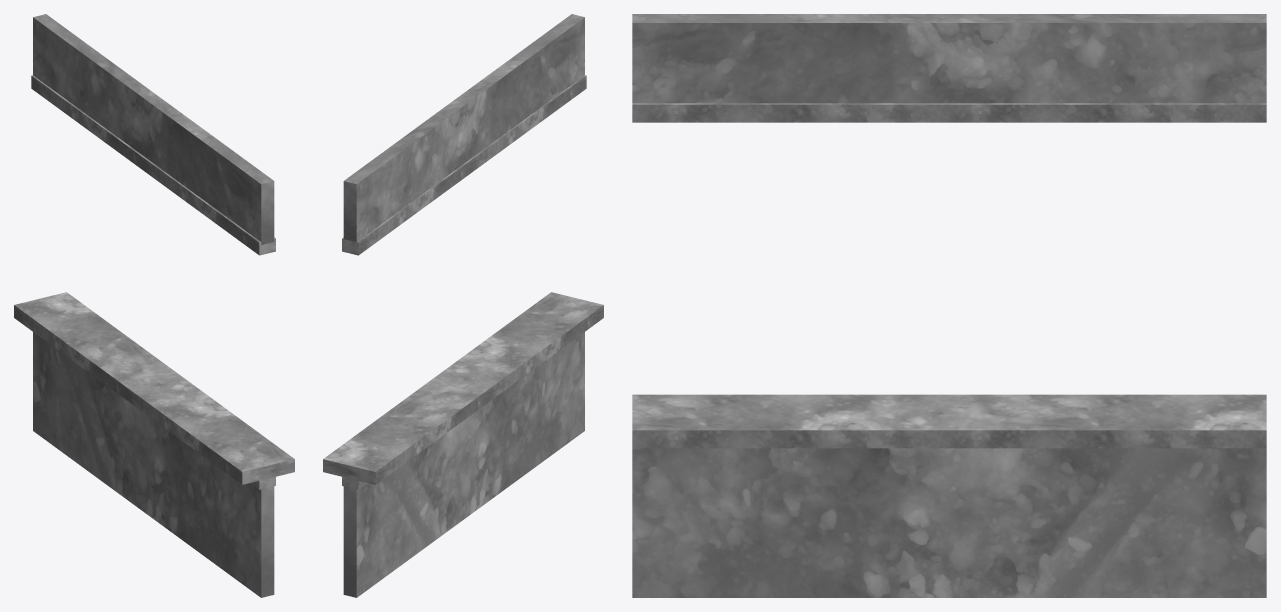
Rendered from SM_WallWindow_01j.fbx.
The picture shows the model from 3 angles, left to right: view 1: azimuth 30°, elevation 25°; view 2: azimuth 150°, elevation 25°; view 3: azimuth 270°, elevation 25°; orthographic projection. The views are drawn at different scales.
Visible parts, largest first — view 1: SM_WallWindow_01j_LOD0; view 2: SM_WallWindow_01j_LOD0; view 3: SM_WallWindow_01j_LOD0.
Boxes of the visible parts, <box> form: SM_WallWindow_01j_LOD0: <box>14,14,294,597</box>; SM_WallWindow_01j_LOD0: <box>323,14,603,597</box>; SM_WallWindow_01j_LOD0: <box>632,14,1266,597</box>.
Bounding box in the file's own units: 39.96 × 300 × 300.
